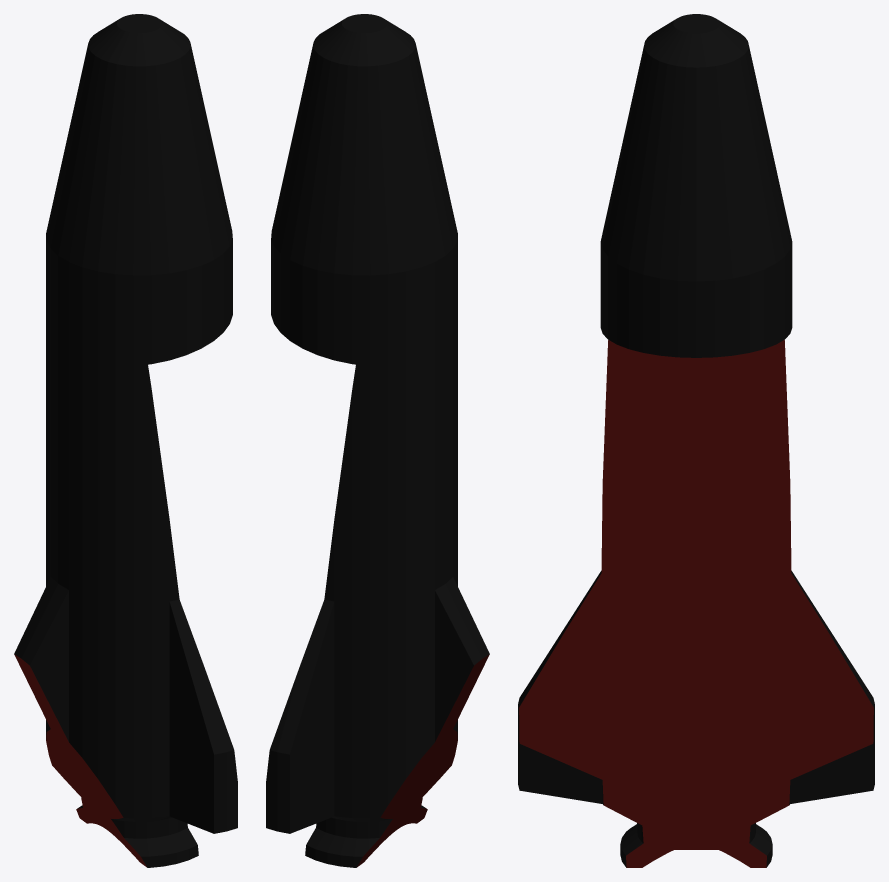
The model's file is missile_wreck_2.fbx.
3 views of the same model, side by side, from view 1: azimuth 30°, elevation 25°; view 2: azimuth 150°, elevation 25°; view 3: azimuth 270°, elevation 25° (orthographic). The views are drawn at different scales.
Visible parts, largest first — view 1: wreck2; view 2: wreck2; view 3: wreck2.
Boxes of the visible parts, <box> form: wreck2: <box>14,14,237,867</box>; wreck2: <box>266,14,489,867</box>; wreck2: <box>518,14,874,867</box>.
Bounding box in the file's own units: 73.71 × 288 × 112.
